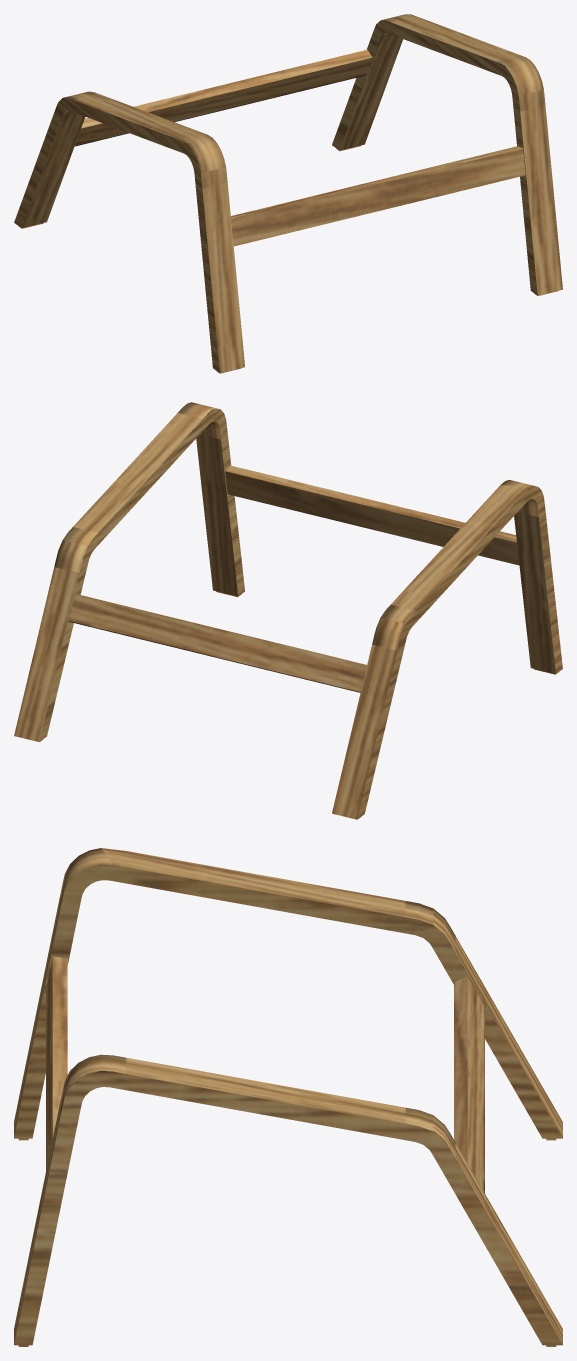
The model's file is conjoinedPiece3.dae.
3 renders of one model, top to bottom at view 1: azimuth 30°, elevation 25°; view 2: azimuth 150°, elevation 25°; view 3: azimuth 270°, elevation 25°, orthographic. The views are drawn at different scales.
Parts seen in each view (by area): view 1: _0233532_NOLMYRA003; view 2: _0233532_NOLMYRA003; view 3: _0233532_NOLMYRA003.
Boxes of the visible parts, box(x1,y1,x2,y2) form: _0233532_NOLMYRA003: box(14, 14, 562, 373); _0233532_NOLMYRA003: box(14, 402, 562, 819); _0233532_NOLMYRA003: box(14, 848, 562, 1346).
Bounding box in the file's own units: 1.1 × 1.14 × 0.6363.
1 material, 1 textured.
